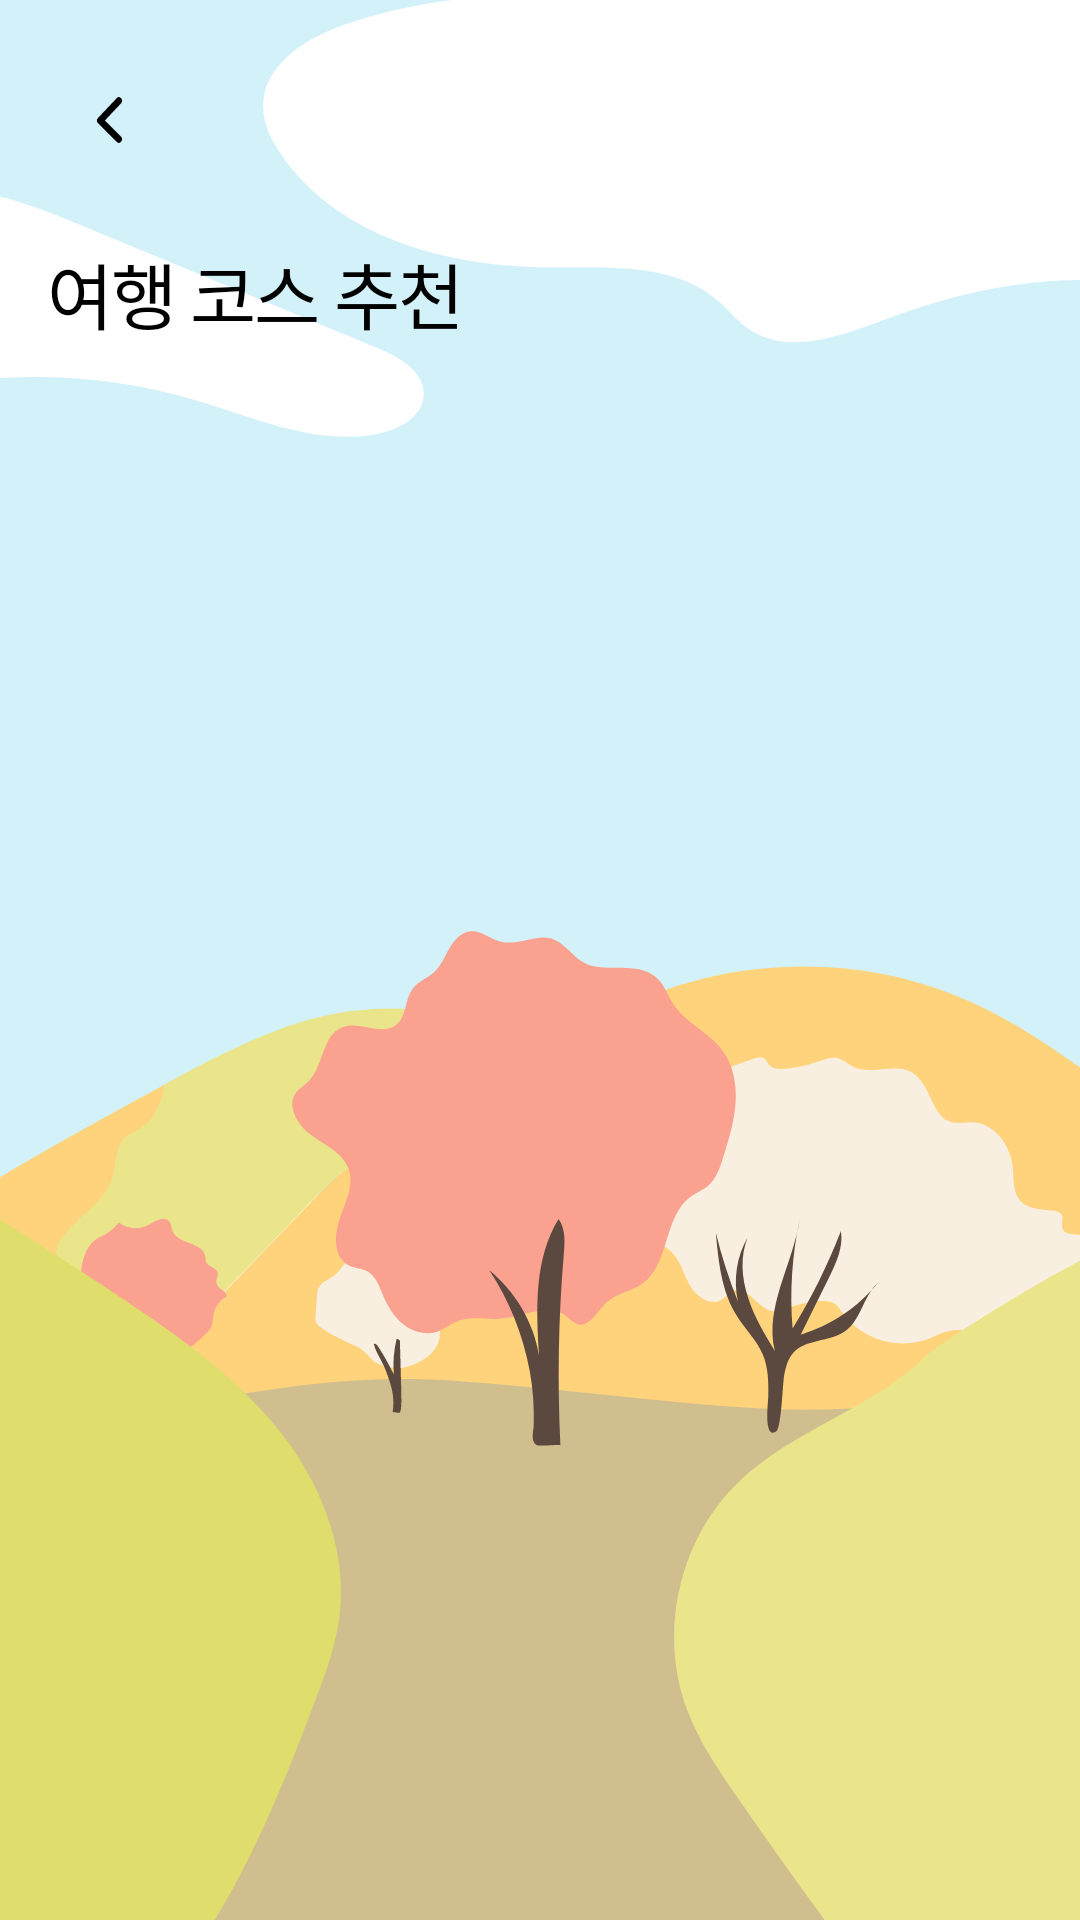

Locate icon controls on the screen. Image size 1080×1920, boxes as box(x1, y1, x2, y2).
back: box(97, 97, 122, 143)
